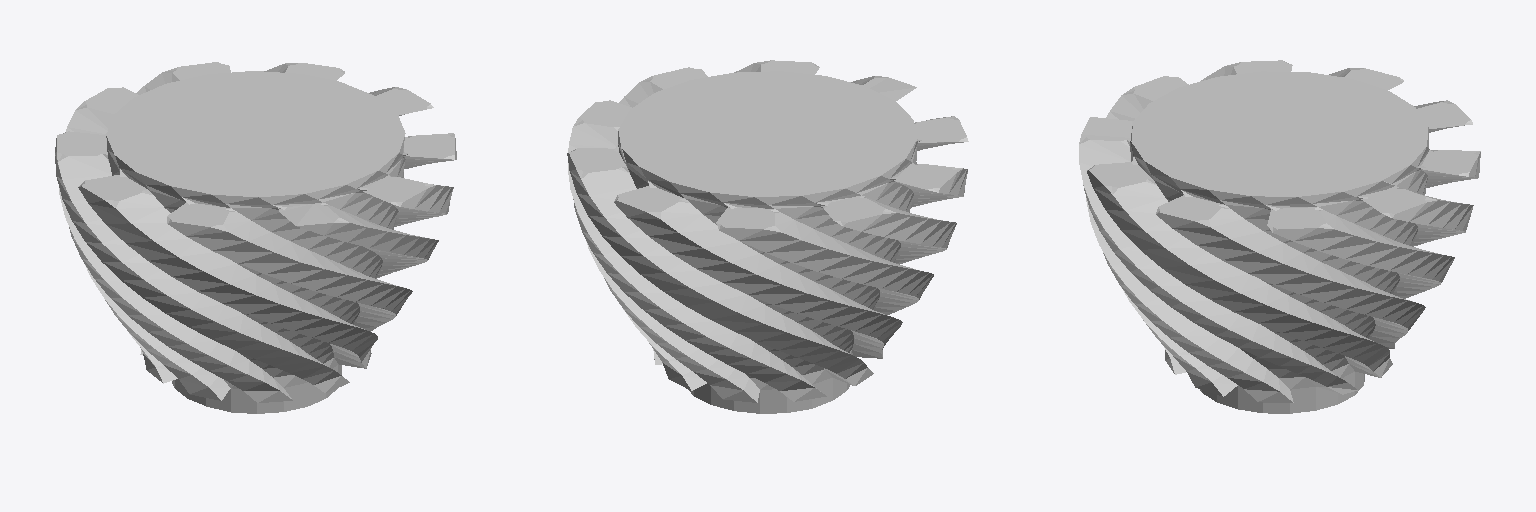
The model's file is Spiral_Bot.obj.
The picture shows the model from 3 angles: view 1: azimuth 30°, elevation 25°; view 2: azimuth 150°, elevation 25°; view 3: azimuth 270°, elevation 25°; orthographic projection.
Parts seen in each view (by area): view 1: default; view 2: default; view 3: default.
Boxes of the visible parts, <box> form: default: <box>55,62,456,413</box>; default: <box>567,60,968,413</box>; default: <box>1079,60,1480,413</box>.
Size of the model in its own units: 1.55 by 1.03 by 1.55.